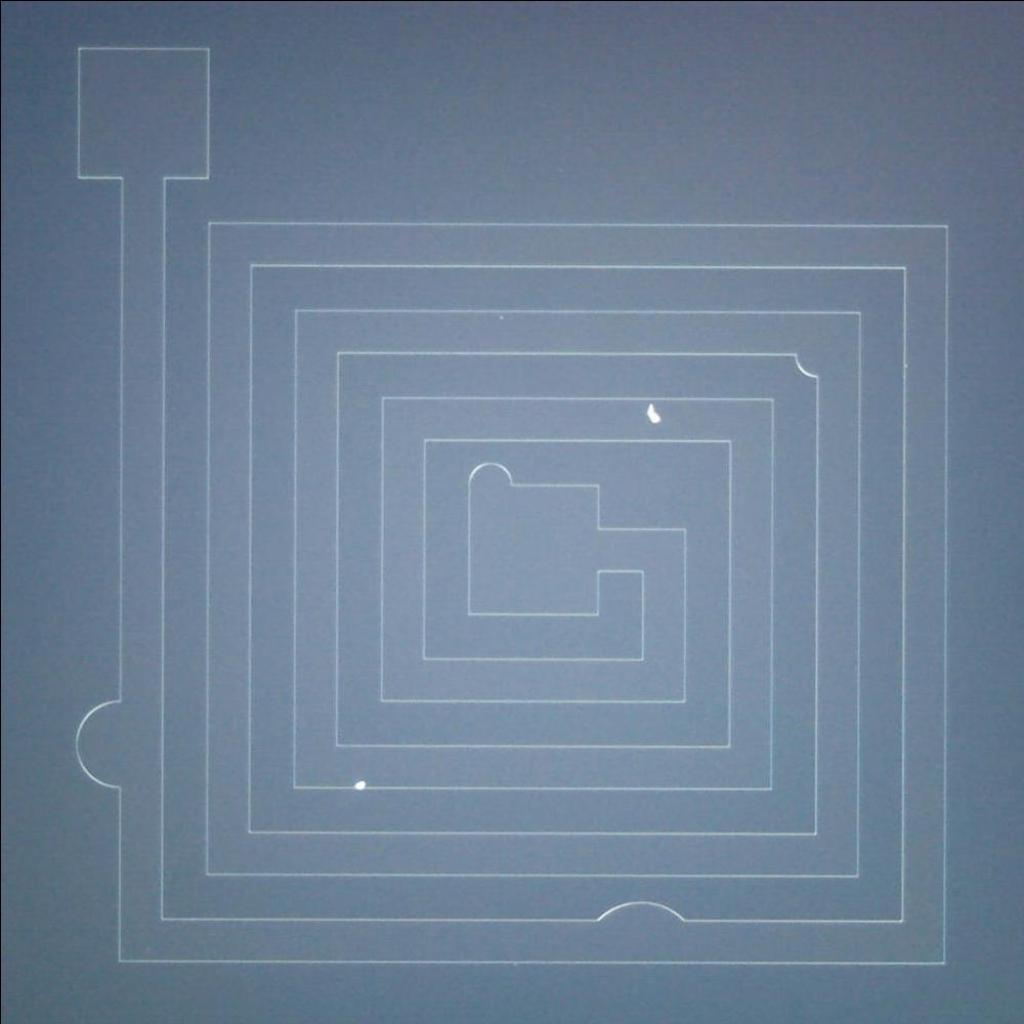curve circuit: (69, 680, 128, 812), (586, 891, 693, 933), (457, 458, 522, 496), (778, 336, 824, 384)
spot: (341, 762, 377, 796), (641, 399, 666, 429)
